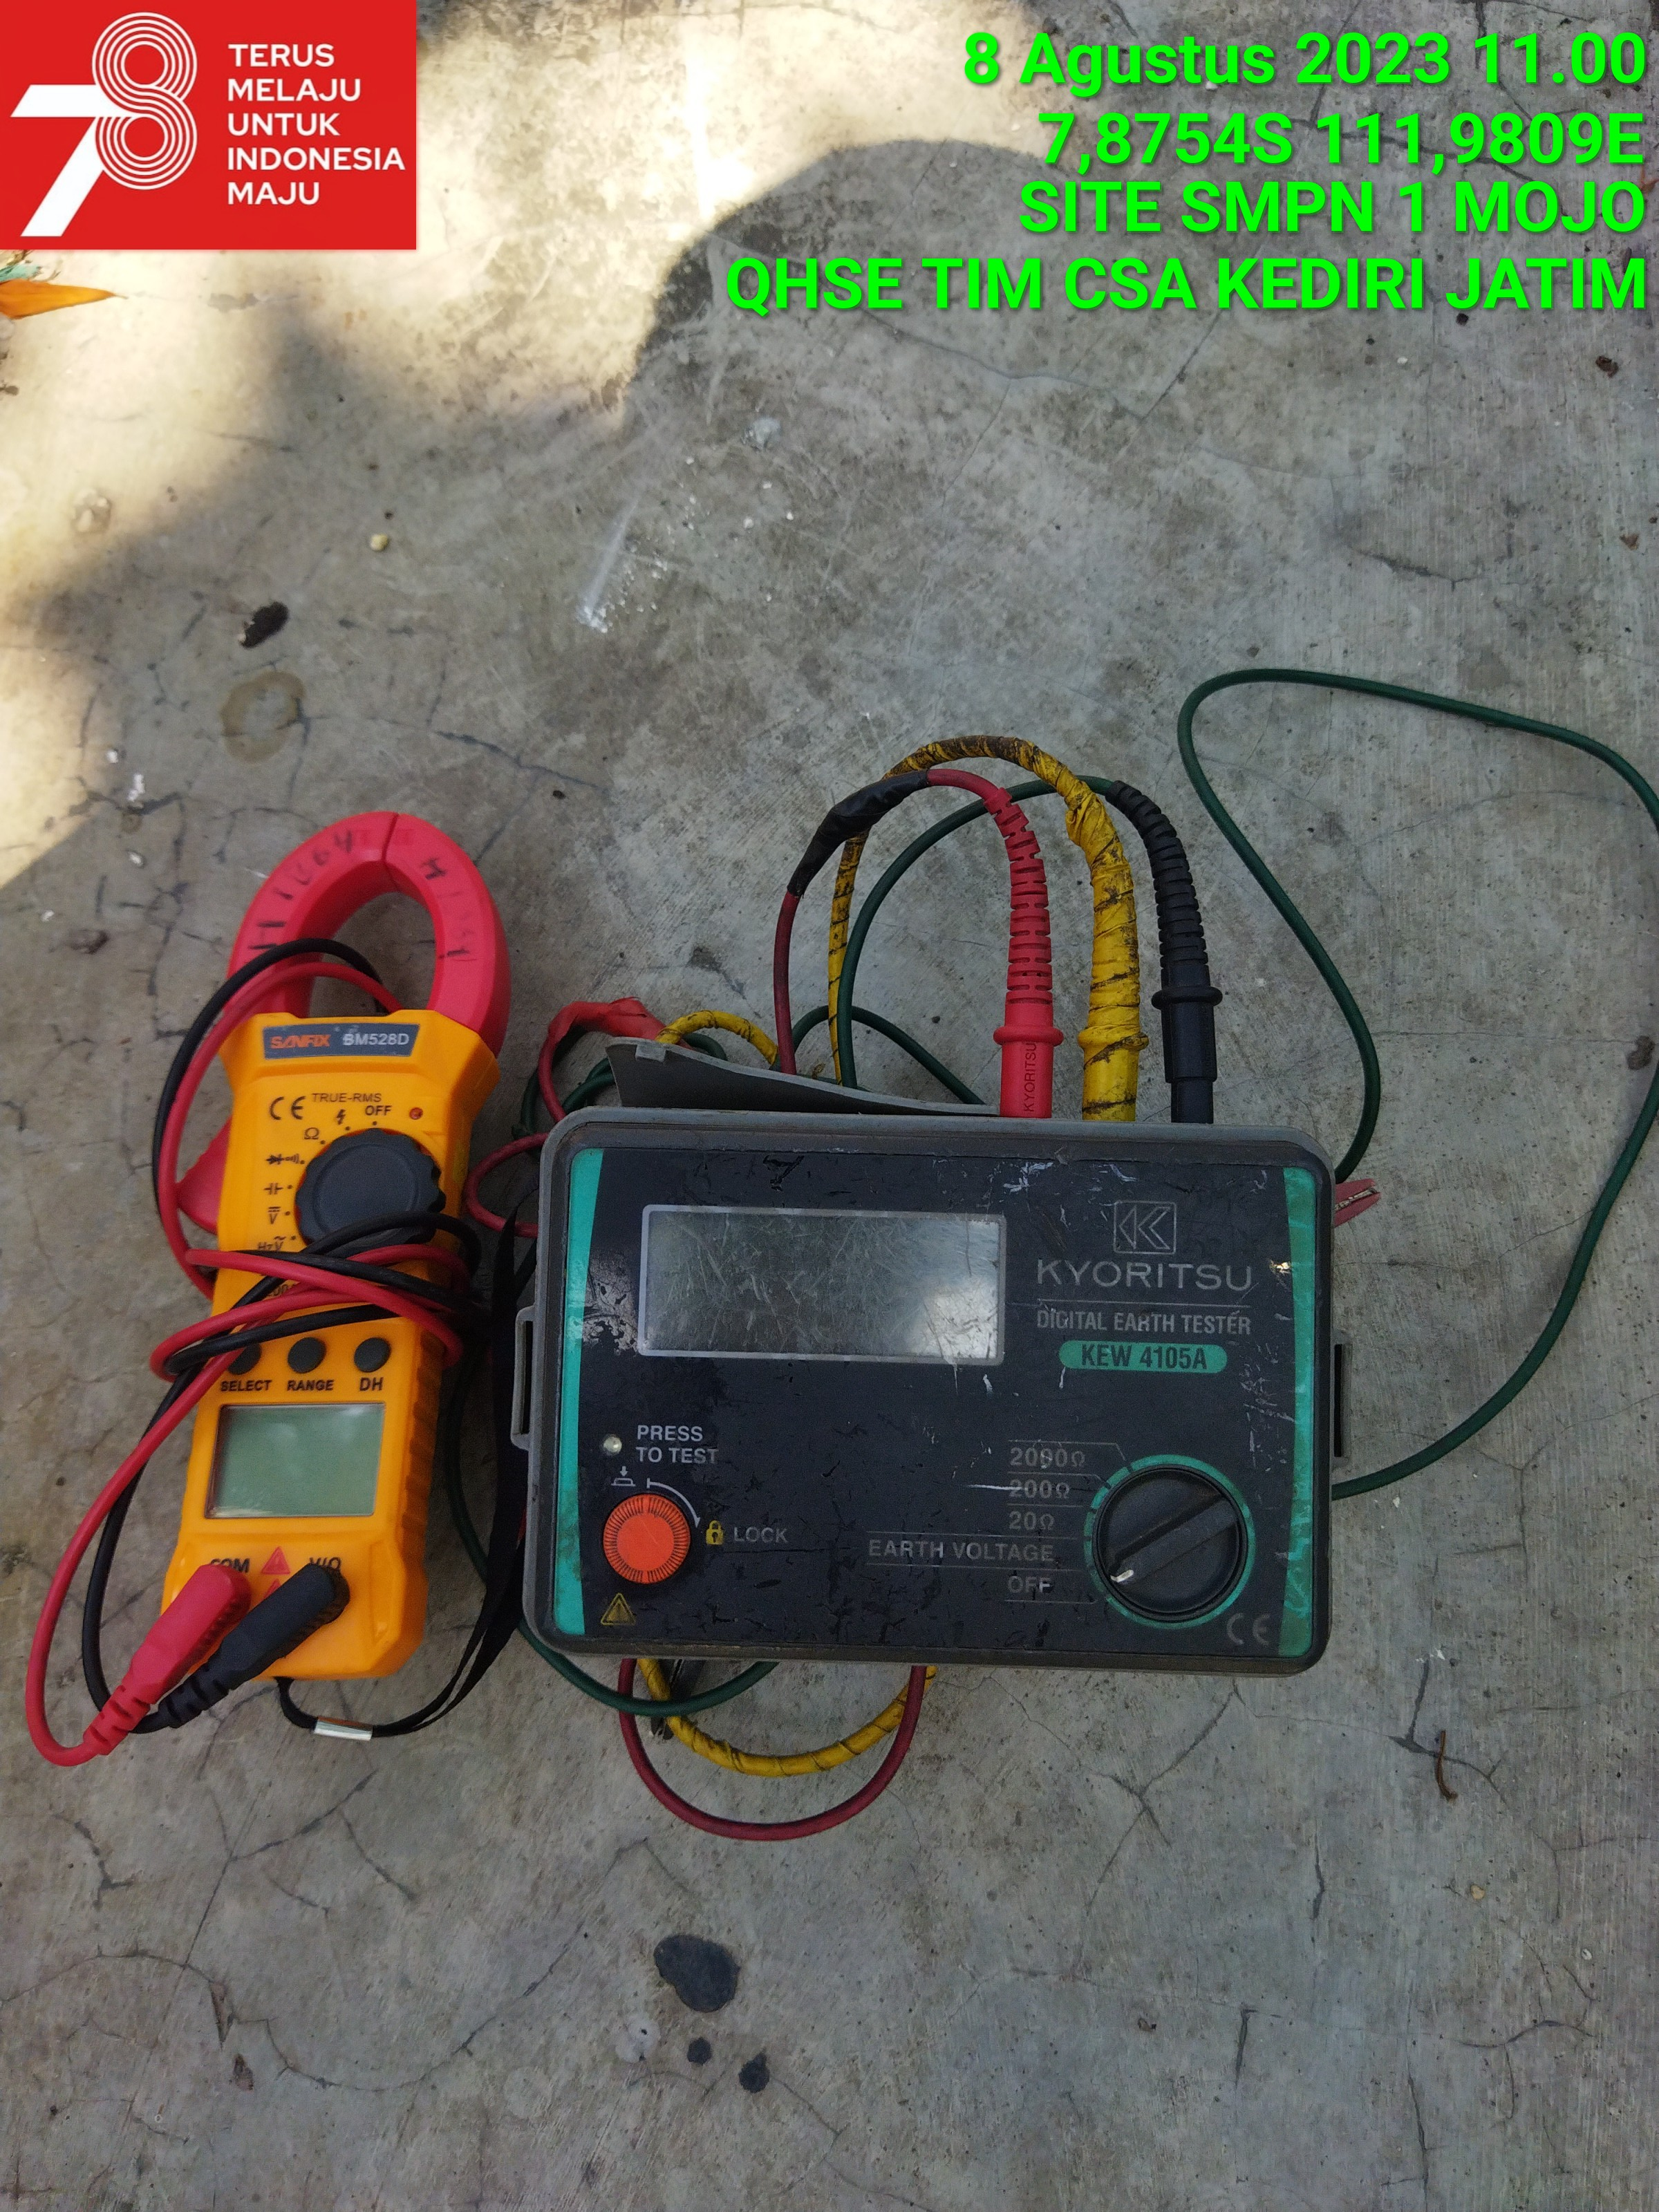EARTH_GROUNDING_TESTER: (523, 1033, 1347, 1686)
TANG_AMPERE: (178, 806, 509, 1686)
